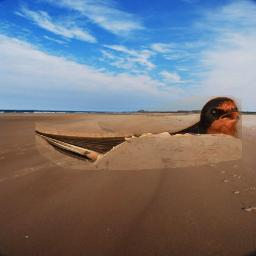Swallow: (35, 95, 242, 170)
